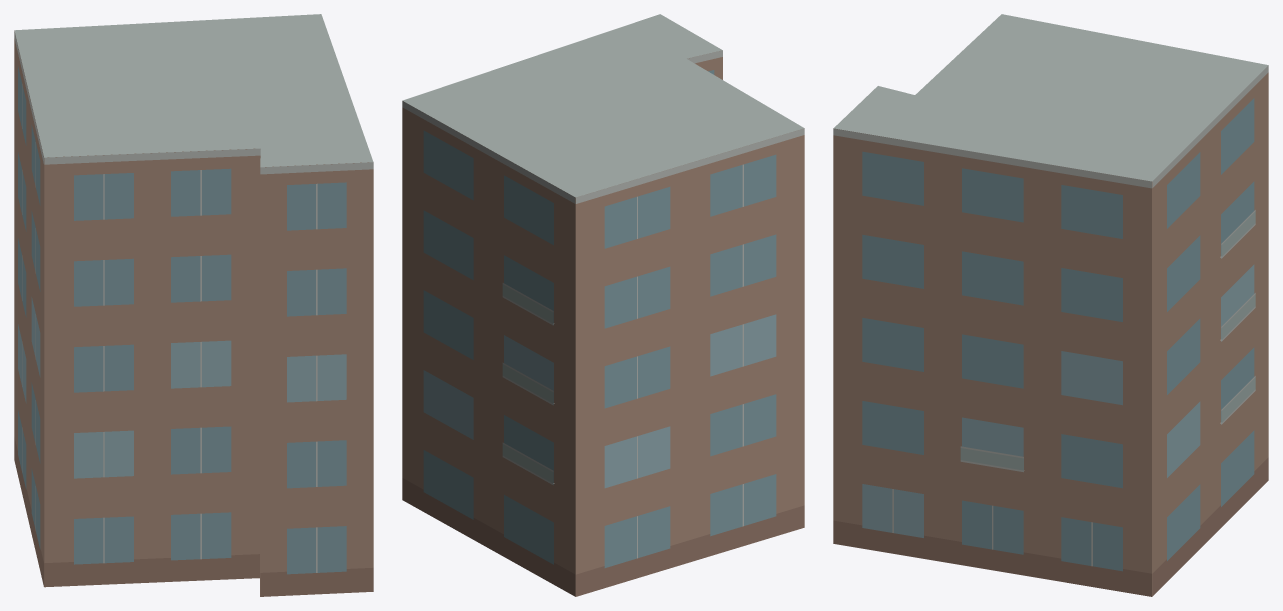
File: survey-upis-32899941.glb
3 renders of one model, left to right at view 1: azimuth 30°, elevation 25°; view 2: azimuth 150°, elevation 25°; view 3: azimuth 270°, elevation 25°, orthographic. The views are drawn at different scales.
Visible parts, largest first — view 1: survey-upis-32899941.tmp; view 2: survey-upis-32899941.tmp; view 3: survey-upis-32899941.tmp.
Part boxes in pixels (<box>): survey-upis-32899941.tmp: <box>14,14,373,596</box>; survey-upis-32899941.tmp: <box>402,14,804,596</box>; survey-upis-32899941.tmp: <box>833,14,1268,596</box>.
Size of the model in its own units: 12.73 by 14.7 by 13.97.
